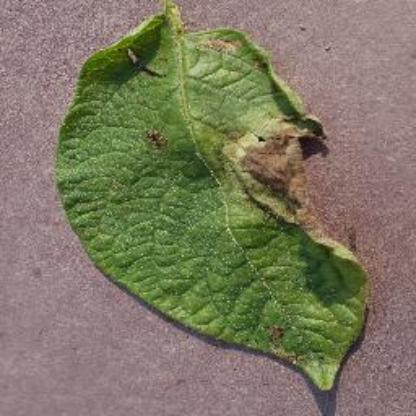Late-Blight: (38, 4, 376, 396)
